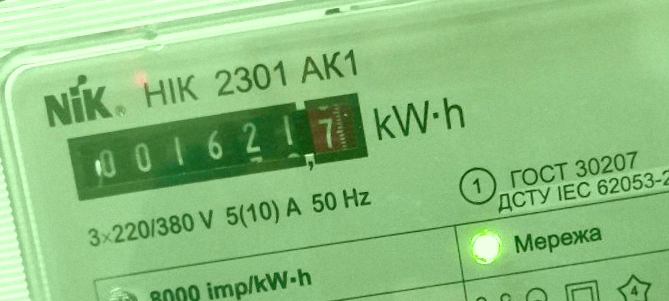0: (129, 137, 155, 176), (95, 143, 119, 180)
1: (278, 109, 296, 148), (169, 131, 187, 168)
2: (239, 117, 264, 156)
6: (202, 126, 225, 162)
7: (314, 113, 338, 151)
screen: (60, 88, 376, 206)
